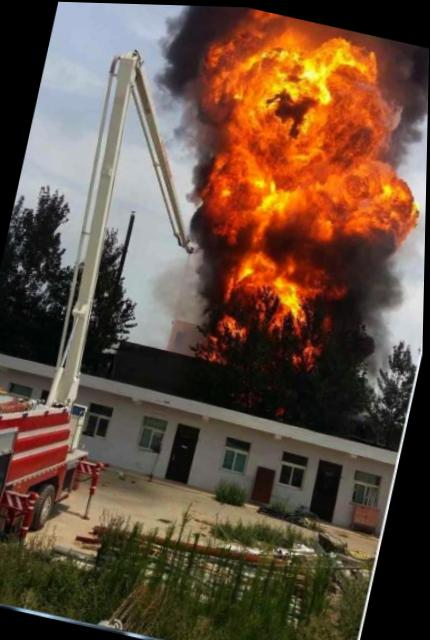fire: (199, 13, 403, 166), (201, 132, 418, 249), (228, 245, 315, 311), (219, 312, 249, 337), (298, 337, 318, 365), (204, 343, 232, 361), (266, 307, 286, 328)
